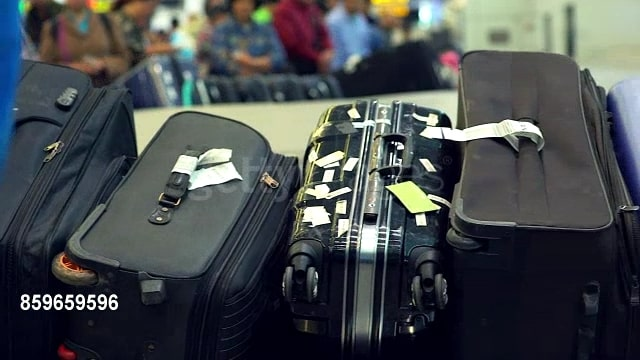baggage: (57, 93, 296, 360), (443, 46, 639, 360), (286, 101, 463, 360)
